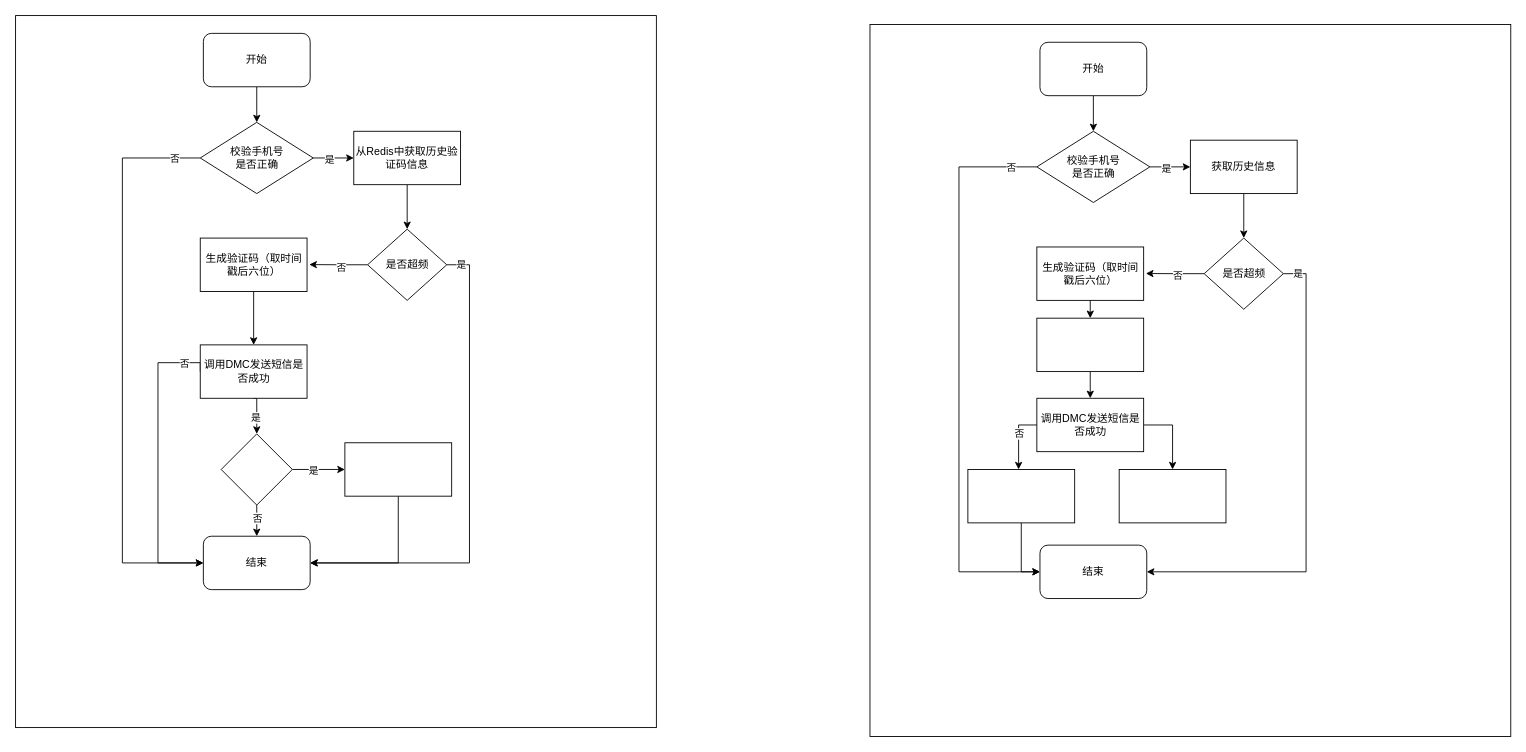
Image size: 1526x752. Some labels were removed from this diagram. Each missing label, with the box of its shape:
再一次从Redis中获取历史验证码信息，更新: (344, 442, 452, 496)
将验证码从Redis中删除: (967, 469, 1075, 523)
将验证码存入Redis: (1036, 317, 1144, 372)
是否是 测试用户: (220, 433, 292, 505)
更新历史信息到Redis: (1118, 469, 1226, 523)
